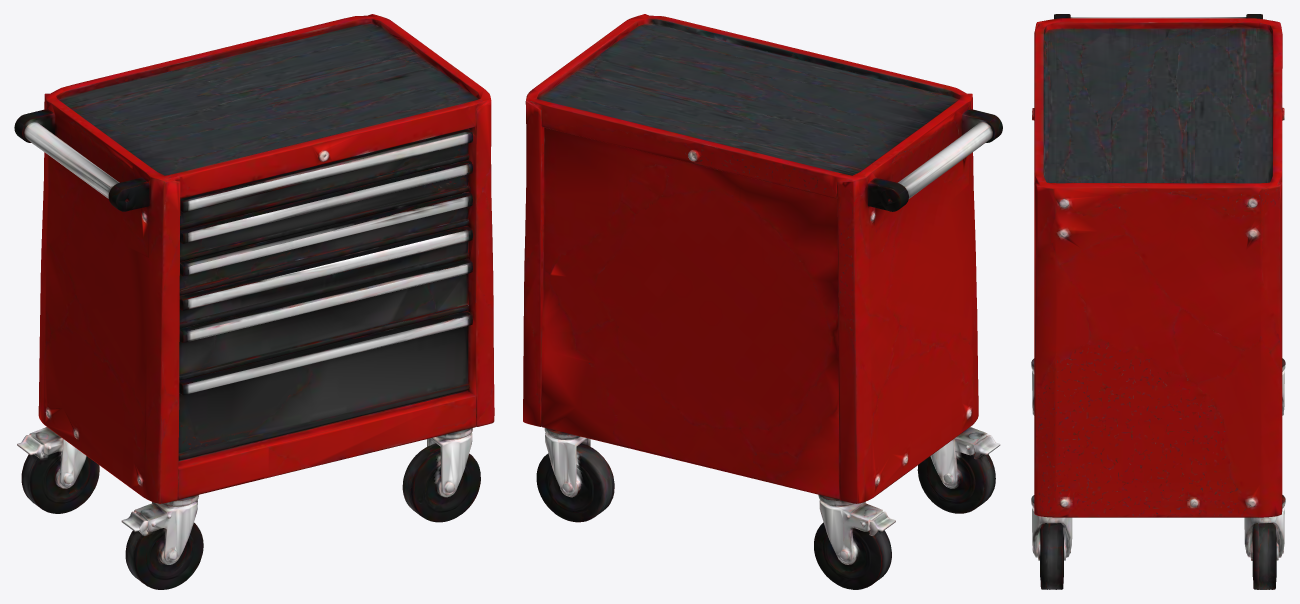
Rendered from tool-cabinet.glb.
The picture shows the model from 3 angles, left to right: view 1: azimuth 30°, elevation 25°; view 2: azimuth 150°, elevation 25°; view 3: azimuth 270°, elevation 25°; orthographic projection. The views are drawn at different scales.
Visible parts, largest first — view 1: node_0; view 2: node_0; view 3: node_0.
Part boxes in pixels (<box>): node_0: <box>14,14,494,589</box>; node_0: <box>523,14,1002,589</box>; node_0: <box>1031,14,1285,589</box>.
Size of the model in its own units: 0.7869 by 0.8307 by 0.4526.
Materials: 1 (1 with a texture image).
